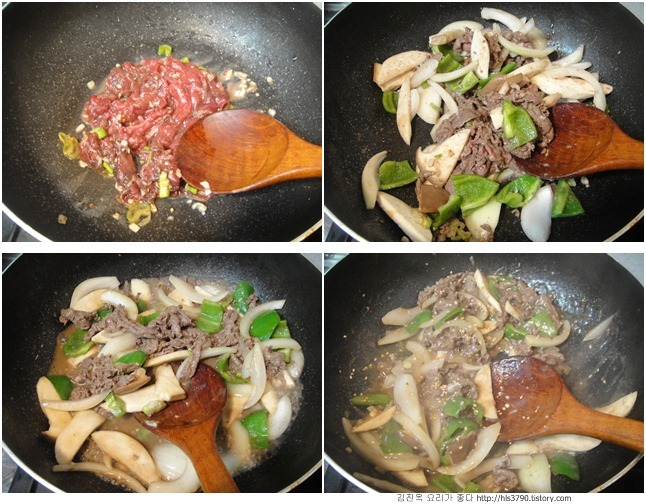bulgogi: (47, 283, 296, 451), (370, 272, 568, 478), (411, 29, 554, 193)
